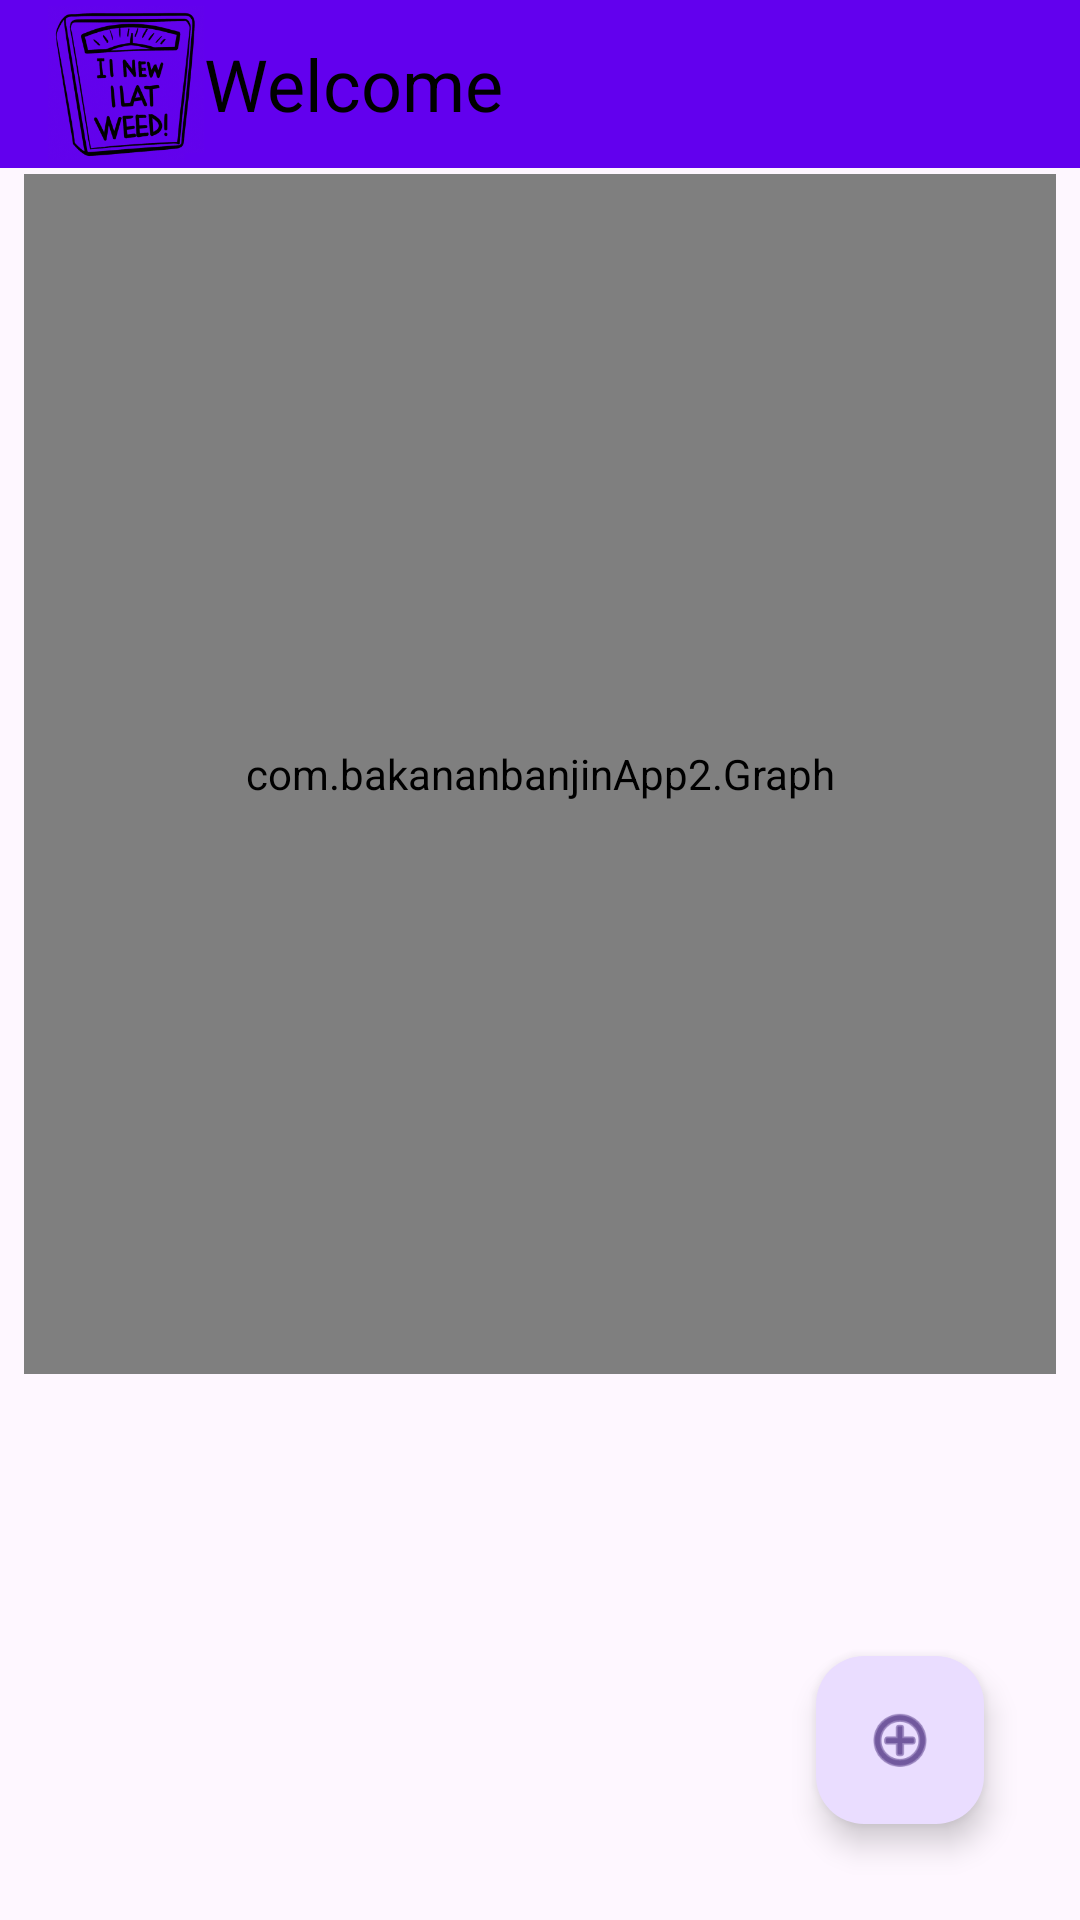

Icon click points for this 1080*1920 phone screenshot, format (x,y):
add: (900,1740)
